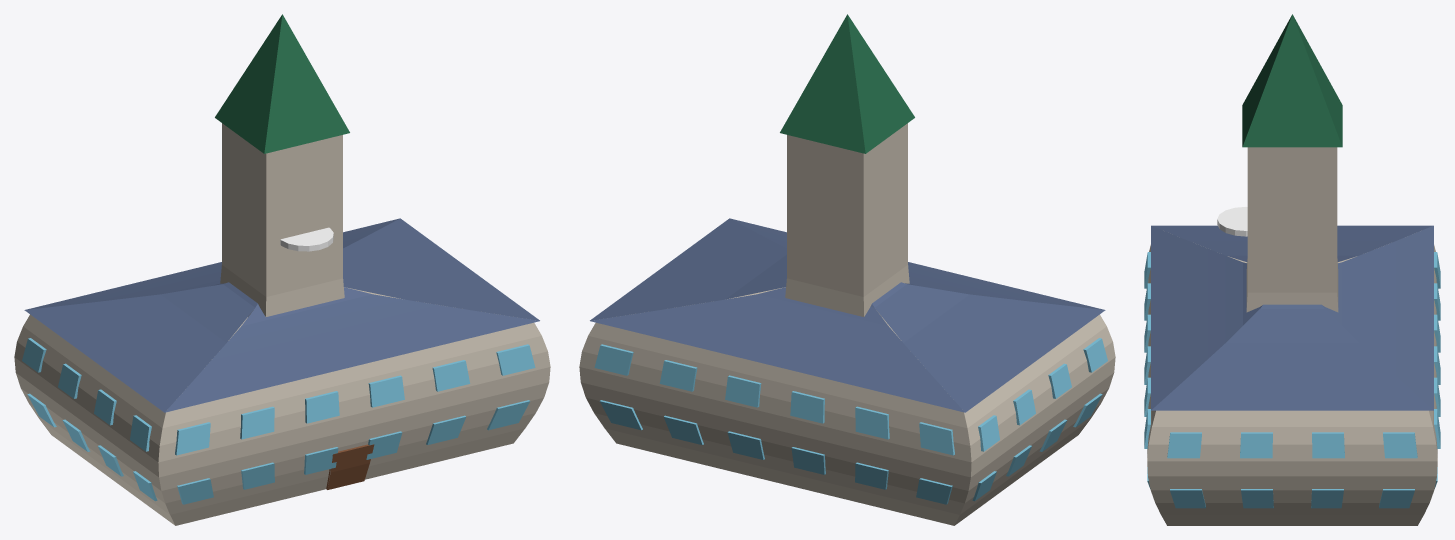
The model's file is town_hall.glb.
3 views of the same model, side by side, from view 1: azimuth 30°, elevation 25°; view 2: azimuth 150°, elevation 25°; view 3: azimuth 270°, elevation 25° (orthographic).
Visible parts, largest first — view 1: town_hall_stone, town_hall_roof_slate, town_hall_window, town_hall_pub_green, town_hall_door, town_hall_white; view 2: town_hall_stone, town_hall_roof_slate, town_hall_window, town_hall_pub_green; view 3: town_hall_roof_slate, town_hall_stone, town_hall_pub_green, town_hall_window, town_hall_white.
Boxes of the visible parts, x1=… form: town_hall_stone: x1=14, y1=123, x2=550, y2=525; town_hall_roof_slate: x1=24, y1=218, x2=539, y2=412; town_hall_window: x1=22, y1=338, x2=535, y2=504; town_hall_pub_green: x1=215, y1=14, x2=349, y2=153; town_hall_door: x1=326, y1=444, x2=374, y2=489; town_hall_white: x1=280, y1=227, x2=333, y2=251; town_hall_stone: x1=579, y1=123, x2=1115, y2=525; town_hall_roof_slate: x1=590, y1=218, x2=1105, y2=412; town_hall_window: x1=594, y1=338, x2=1107, y2=504; town_hall_pub_green: x1=780, y1=14, x2=914, y2=153; town_hall_roof_slate: x1=1151, y1=225, x2=1433, y2=410; town_hall_stone: x1=1147, y1=147, x2=1437, y2=525; town_hall_pub_green: x1=1242, y1=14, x2=1342, y2=147; town_hall_window: x1=1144, y1=252, x2=1440, y2=508; town_hall_white: x1=1217, y1=207, x2=1247, y2=236.
Size of the model in its own units: 26.87 by 27.5 by 17.23.
